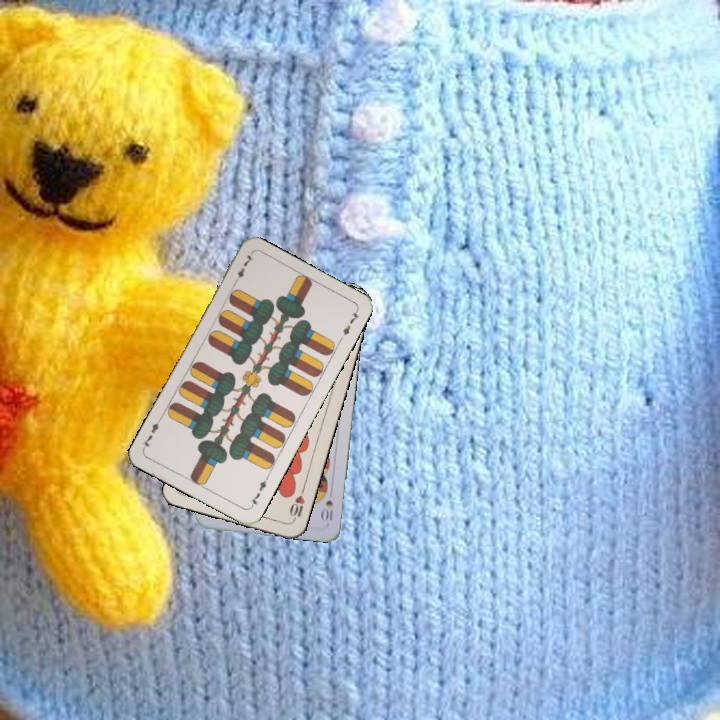E7: (230, 250, 256, 287), (246, 473, 271, 510)
H10: (285, 484, 307, 524)
S10: (318, 496, 335, 524)
